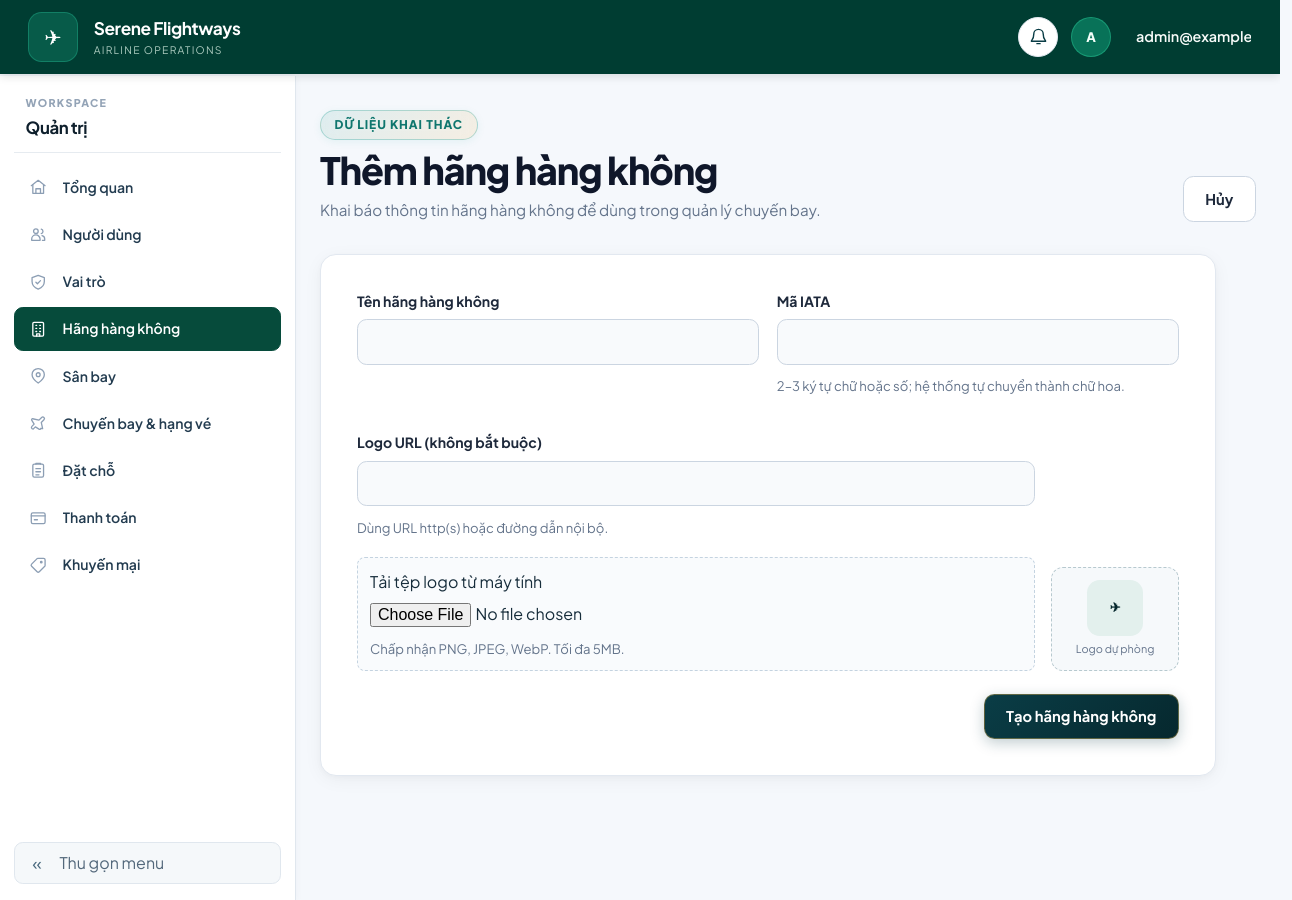
Test: Airline and Airport administration › does not submit an Airline with an invalid IATA code
Expected: the heading "Thêm hãng hàng không" is shown, [320,146,717,193]
Type "Pacific Air" into the field labelled "Tên hãng hàng không" at (558, 342), box [357,319,759,365]
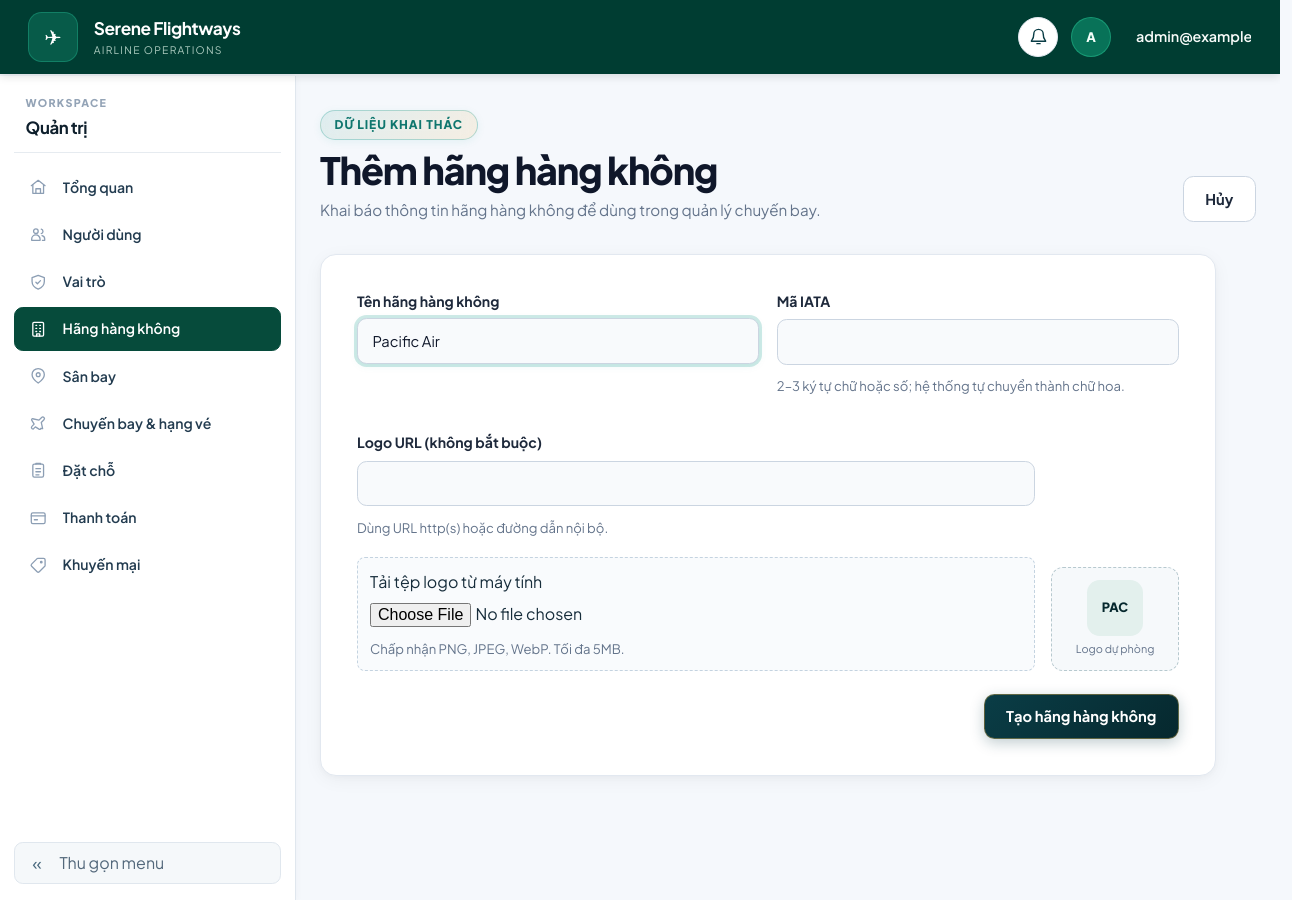
Type "P" into the field labelled "Mã IATA" at (978, 342), box [777,319,1179,365]
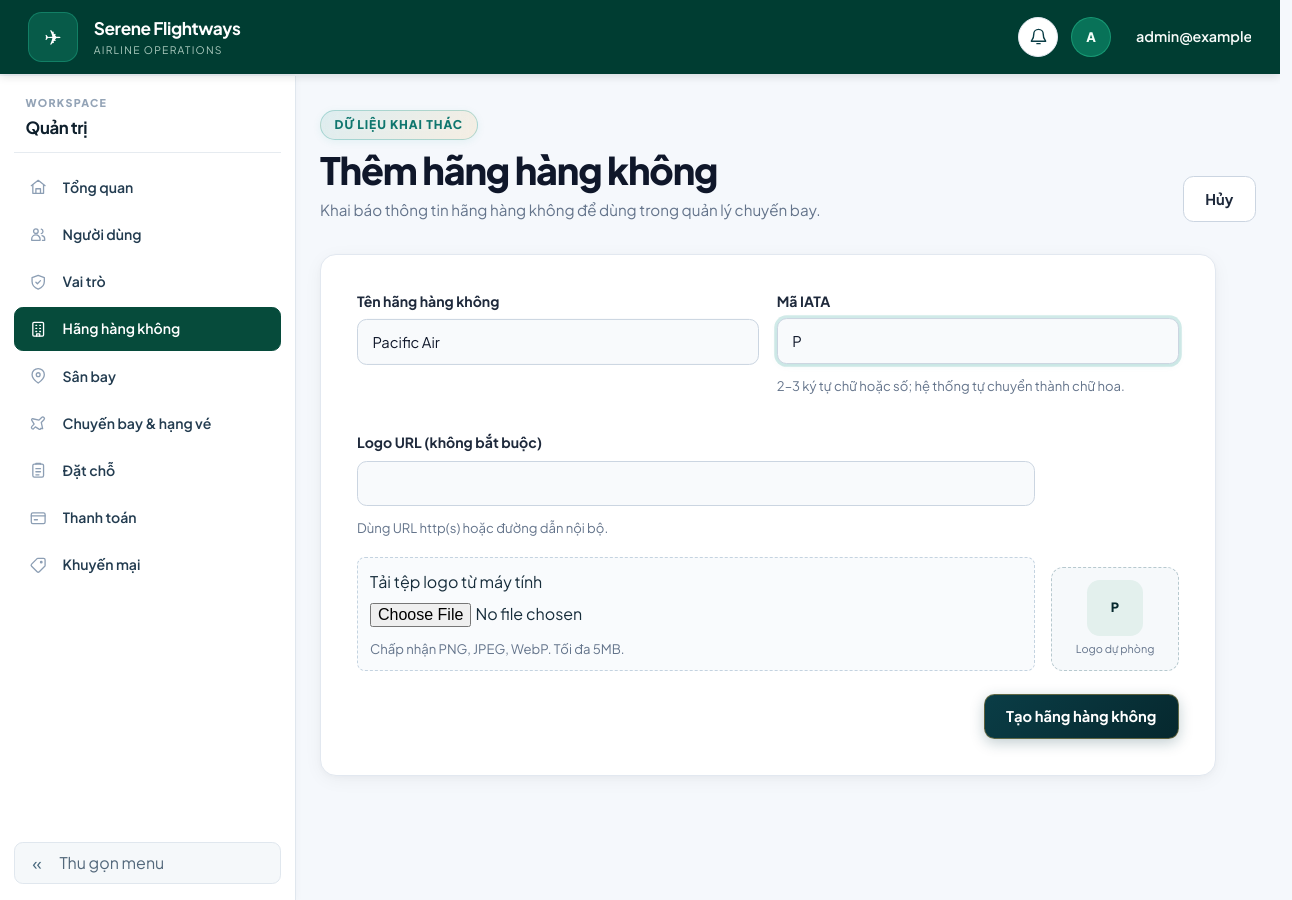
Click the button "Tạo hãng hàng không" at (1081, 717), box [984,694,1179,739]
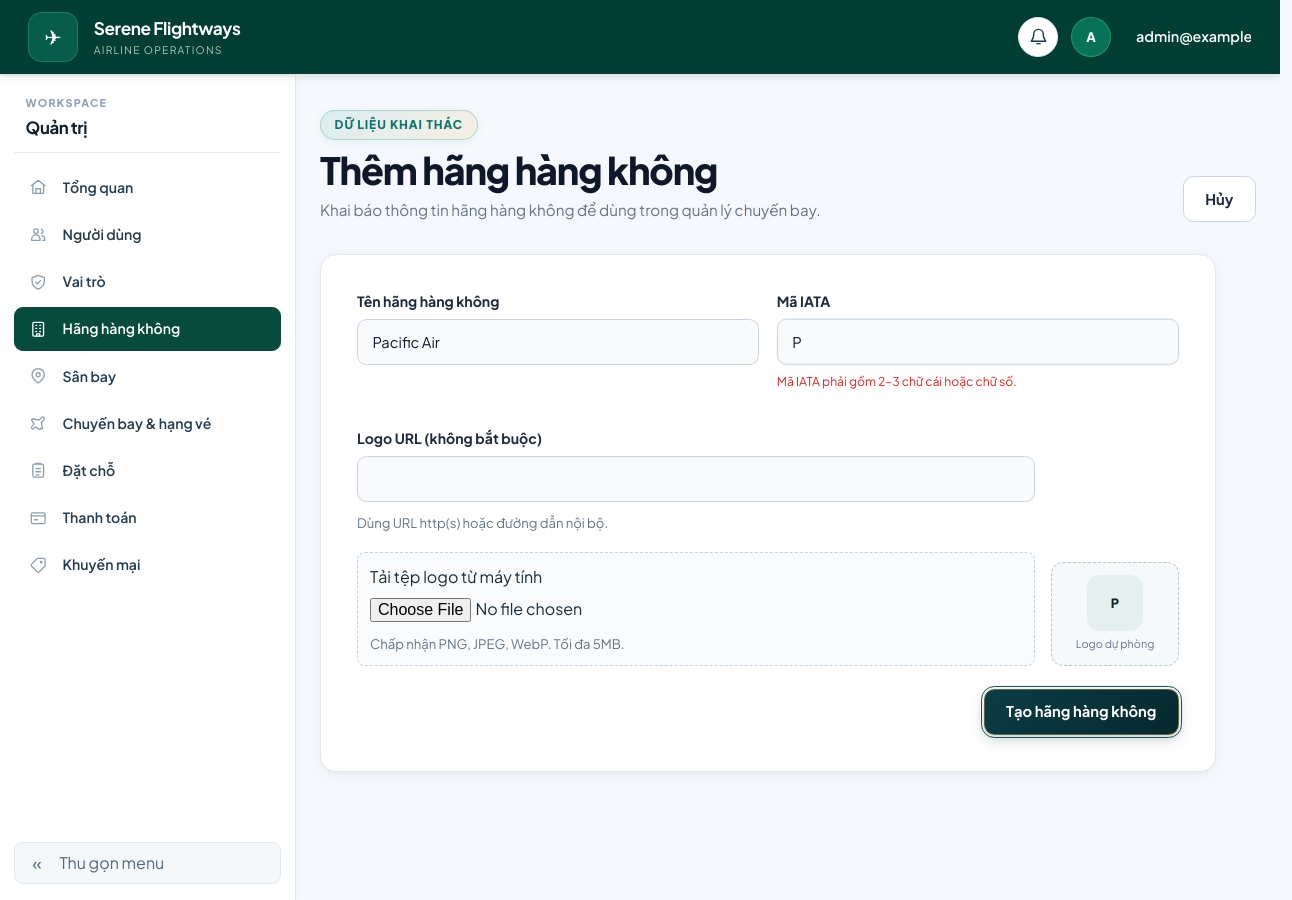
Now the text "Mã IATA phải gồm 2–3 chữ cái hoặc chữ số." is shown, box [777,373,1017,389]
